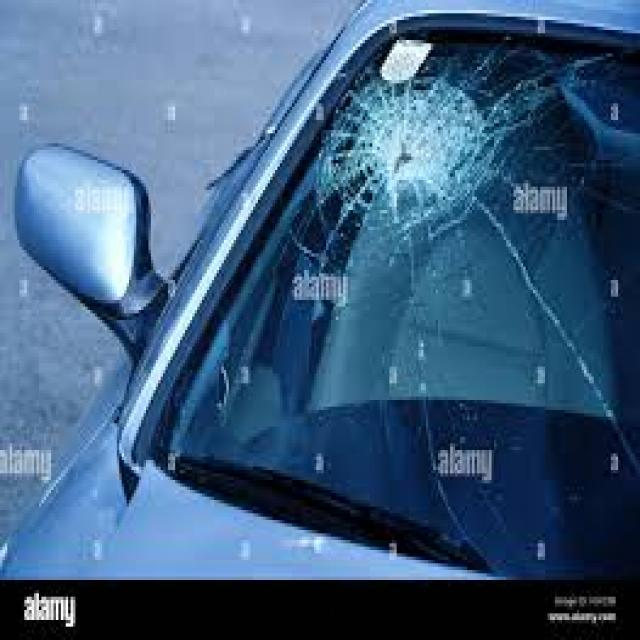damaged-windscreen: (145, 23, 640, 580)
